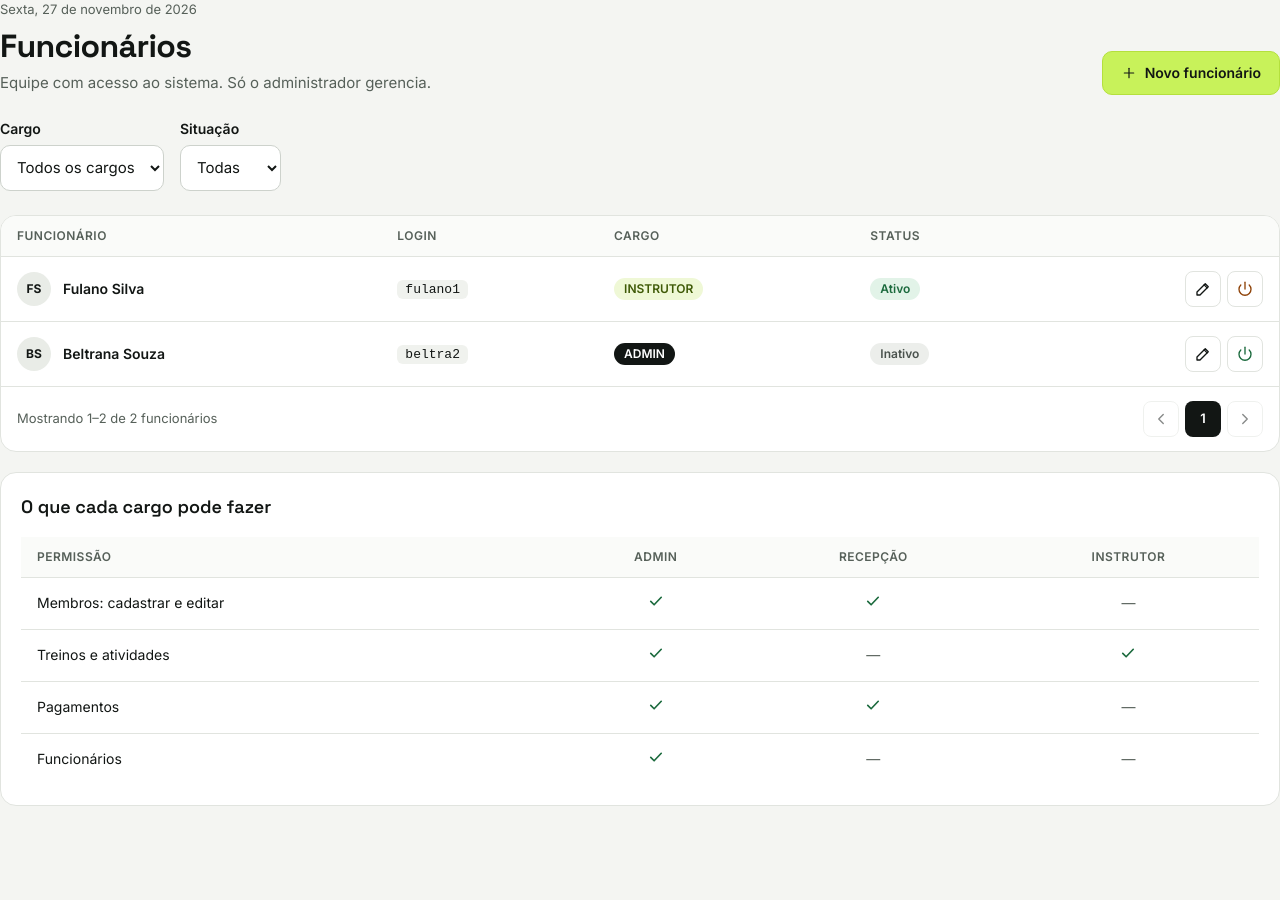
Test case: TelaFuncionarios › desativa depois de confirmar, avisa e recarrega
The width and height of the screenshot is (1280, 900).
Expected: the text "Fulano Silva" is shown, [63,278,144,298]
Click the button named "Desativar Fulano Silva" at point(1245, 288), box [1227,270,1263,306]
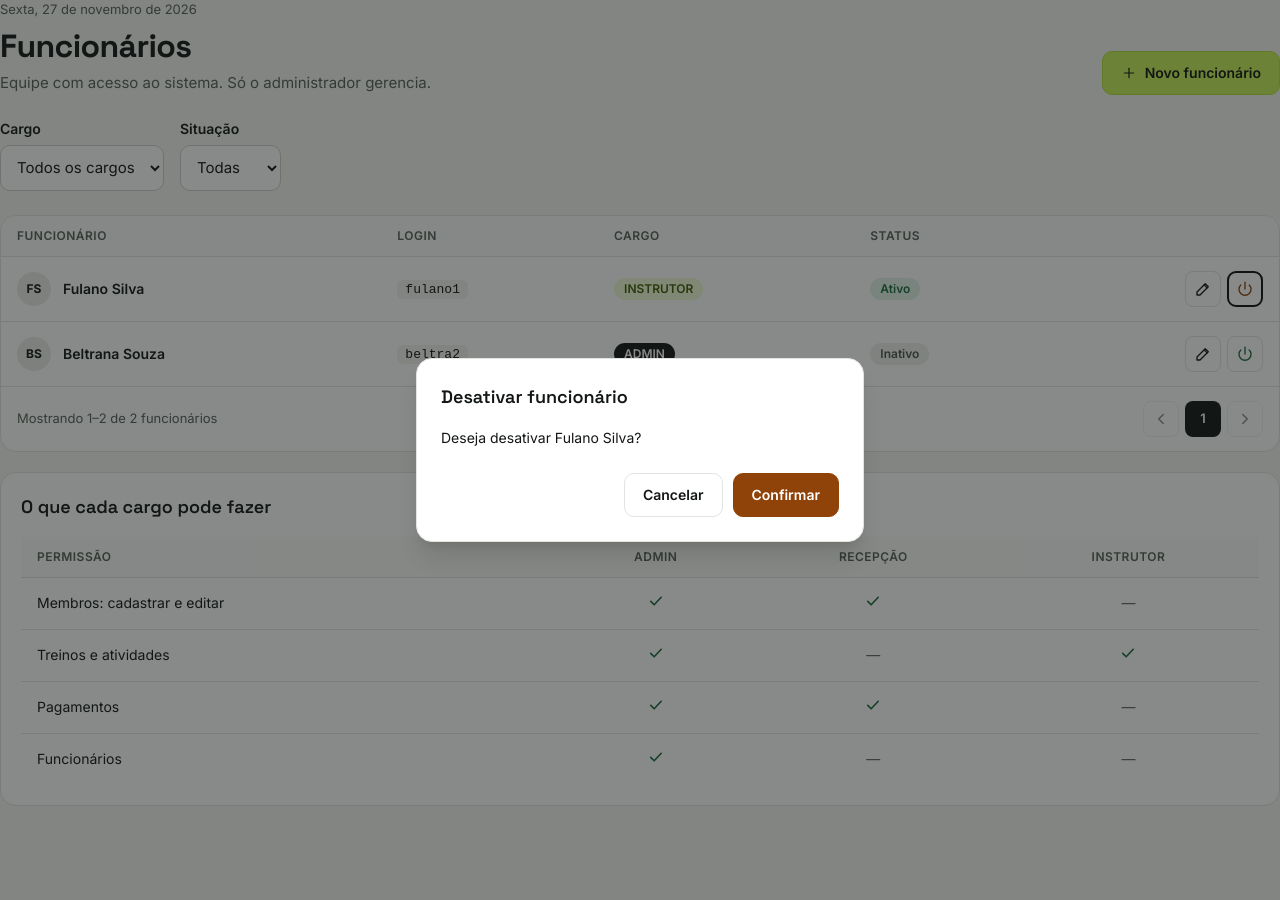
Expected: the text "Deseja desativar Fulano Silva?" is shown, [441,429,641,446]
Click the button "Confirmar" at point(786, 495), box [732,473,839,517]
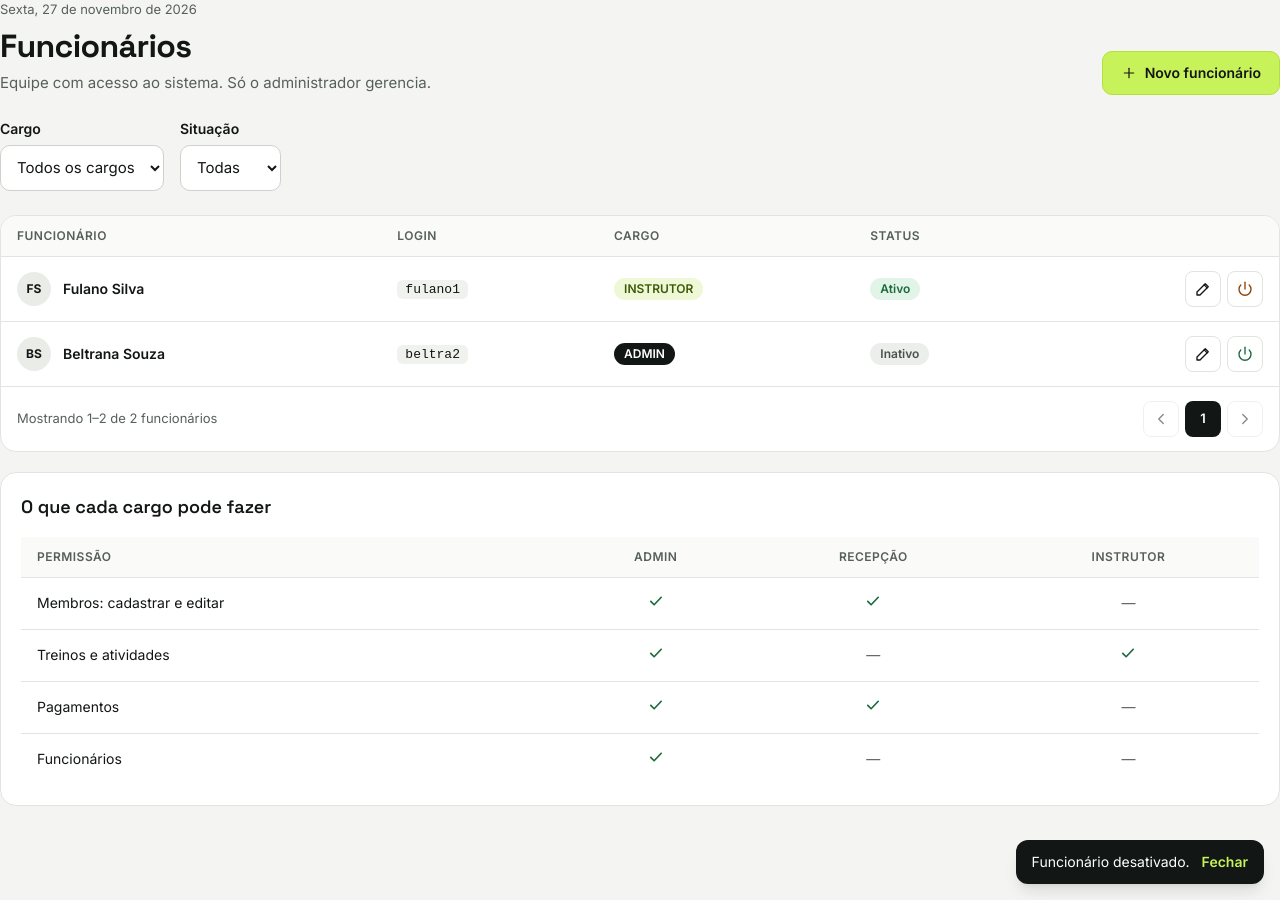
Expected: the text "Funcionário desativado." is shown, [1032,852,1190,872]
Expected: the dialog is gone
